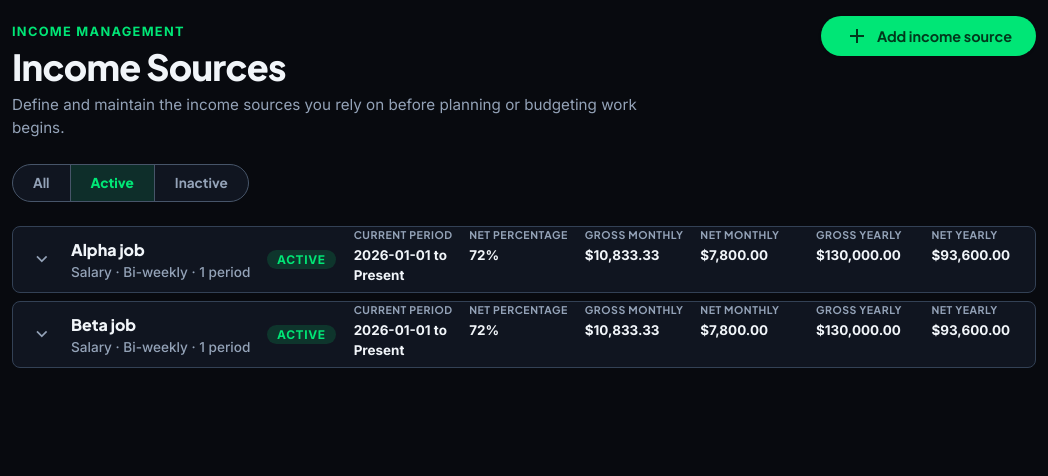
Test: IncomeSourcesPage › sorts active sources first and filters by status
Expected: the text "Alpha job" is shown, x1=71 y1=239 x2=145 y2=260
Expected: the text "Beta job" is shown, x1=71 y1=314 x2=136 y2=335
Click the tab "Inactive".
click(201, 183)  # box x1=155 y1=165 x2=248 y2=201
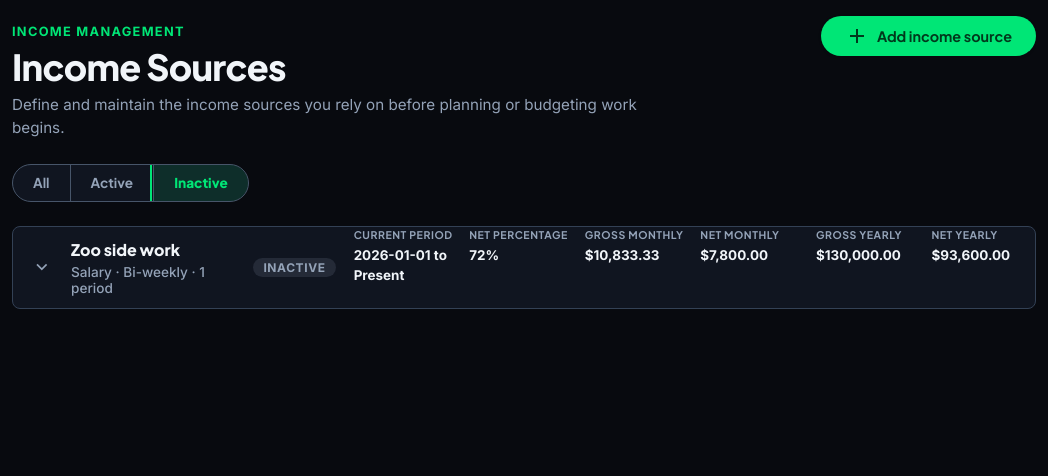
Now the text "Zoo side work" is shown, box x1=71 y1=239 x2=180 y2=260
Now the button "Alpha job" is gone
Click the tab "All".
click(42, 183)  # box x1=13 y1=165 x2=70 y2=201
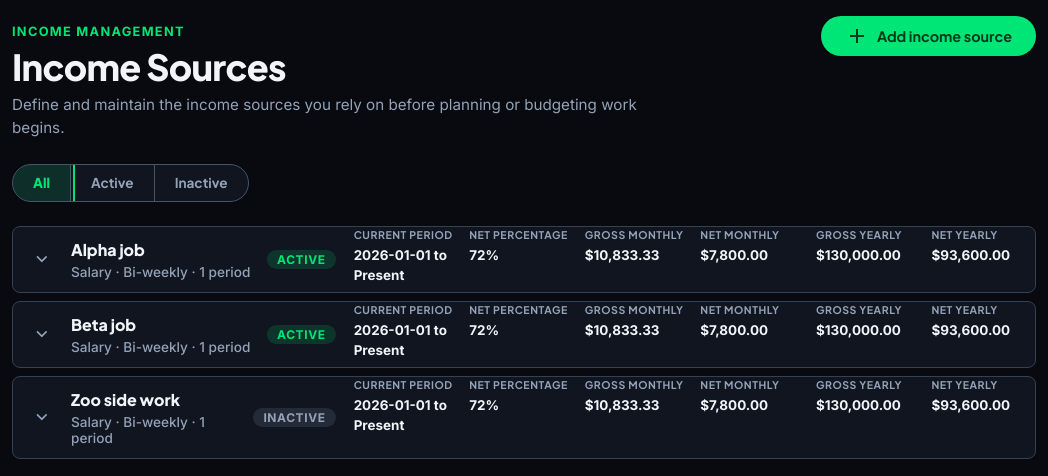
Now the text "Zoo side work" is shown, box x1=71 y1=389 x2=180 y2=410
Now the text "Alpha job" is shown, box x1=71 y1=239 x2=145 y2=260
